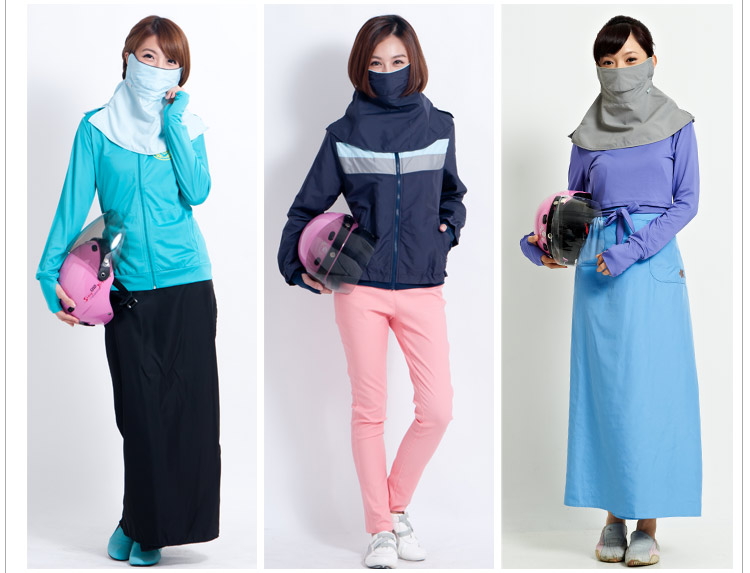face_mask: (360, 34, 417, 100), (597, 40, 648, 91), (131, 36, 179, 88)
